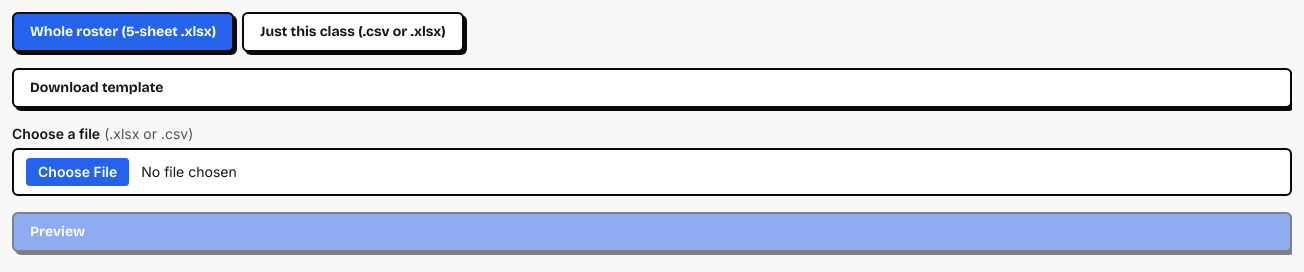
Test: RosterFileImport — both modes (sub-selector) › switching to lean mode shows the Upload button instead of Preview
Expected: the button "Preview" is shown, top-left (12, 212), bottom-right (1292, 252)
Note: Switch to lean
Click the radio button labelled "Just this class (.csv or .xlsx)": [353, 32] box top-left (242, 12), bottom-right (464, 52)
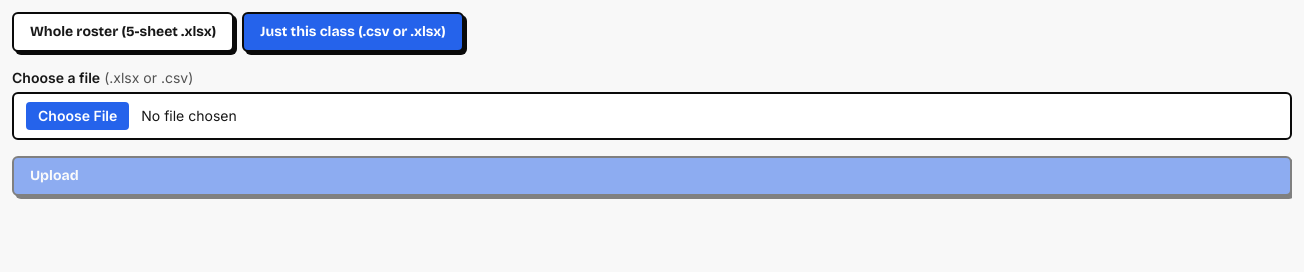
Expected: the button "Upload" is shown, top-left (12, 156), bottom-right (1292, 196)
Expected: the button "Preview" is gone
